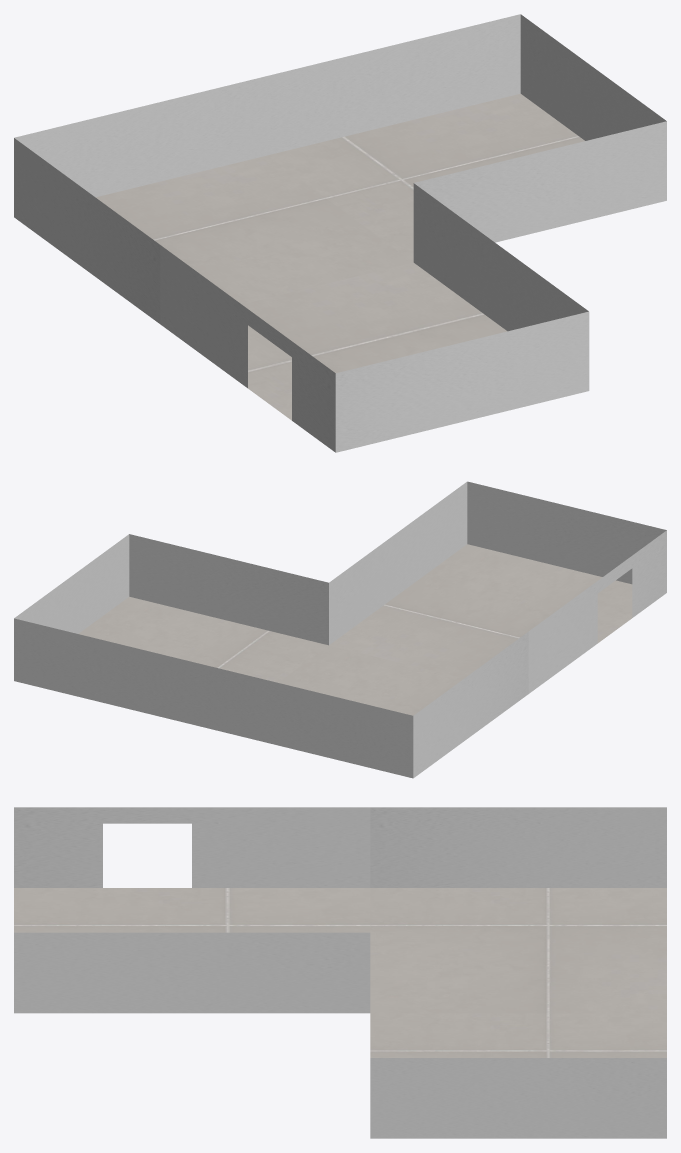
Rendered from escena1.glb.
3 views of the same model, one above another, from view 1: azimuth 30°, elevation 25°; view 2: azimuth 150°, elevation 25°; view 3: azimuth 270°, elevation 25° (orthographic). The views are drawn at different scales.
Visible parts, largest first — view 1: Cube.010, Cube.004, Cube.007, Cube.006, Cube.009, Cube.005, Cube.002, Cube.003, Cube.008; view 2: Cube.010, Cube.009, Cube.005, Cube.002, Cube.007, Cube.006, Cube.003, Cube.004, Cube.008; view 3: Cube.010, Cube.004, Cube.003, Cube.008, Cube.009, Cube.006.
Part boxes in pixels (<box>): Cube.010: <box>160,183,589,452</box>; Cube.004: <box>96,155,413,304</box>; Cube.007: <box>267,14,520,155</box>; Cube.006: <box>267,93,584,262</box>; Cube.009: <box>242,262,507,420</box>; Cube.005: <box>14,76,267,197</box>; Cube.002: <box>414,121,666,242</box>; Cube.003: <box>14,138,160,323</box>; Cube.008: <box>520,14,666,140</box>; Cube.010: <box>329,481,666,693</box>; Cube.009: <box>329,544,632,678</box>; Cube.005: <box>213,667,413,778</box>; Cube.002: <box>129,534,328,645</box>; Cube.007: <box>14,618,213,729</box>; Cube.006: <box>79,596,328,682</box>; Cube.003: <box>413,631,528,778</box>; Cube.004: <box>278,645,463,715</box>; Cube.008: <box>14,534,129,633</box>; Cube.010: <box>14,807,370,1013</box>; Cube.004: <box>370,888,666,1013</box>; Cube.003: <box>370,807,666,887</box>; Cube.008: <box>370,1058,666,1138</box>; Cube.009: <box>14,888,370,932</box>; Cube.006: <box>370,1013,666,1057</box>.
Size of the model in its own units: 40 by 6 by 44.
7 materials, 7 textured.
